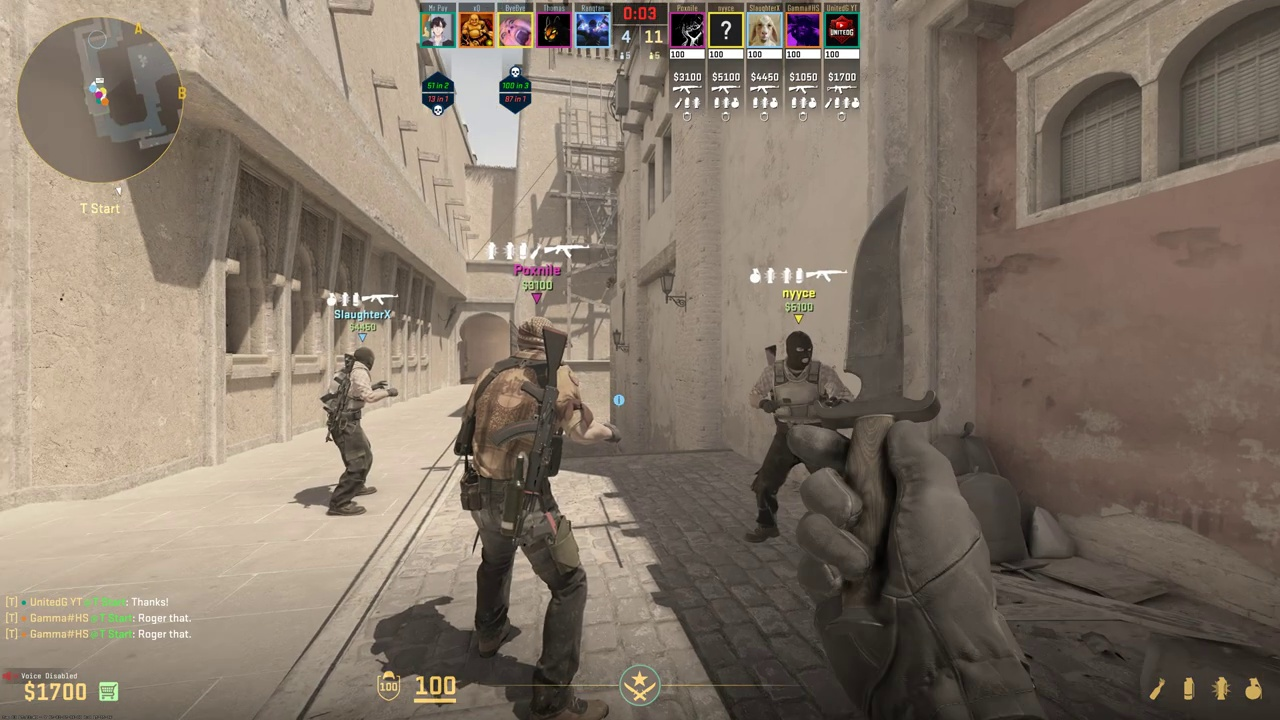Terrorist: (460, 319, 591, 699), (750, 331, 855, 542), (325, 348, 381, 515)
